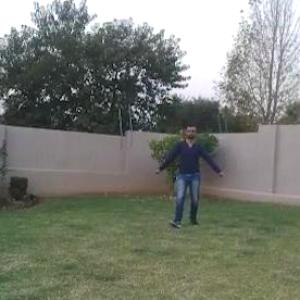land: (147, 109, 228, 239)
